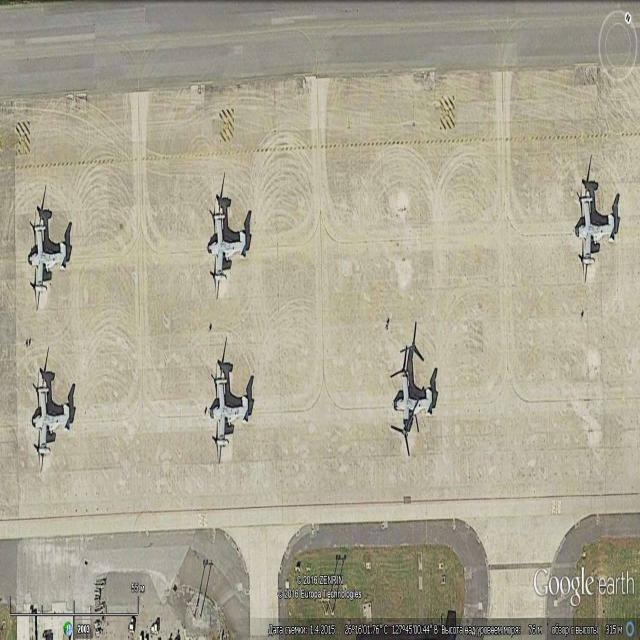MIL_Plane: (390, 344, 432, 458), (207, 198, 247, 301), (575, 182, 615, 284), (32, 370, 70, 474), (28, 209, 66, 313), (210, 363, 248, 466)
